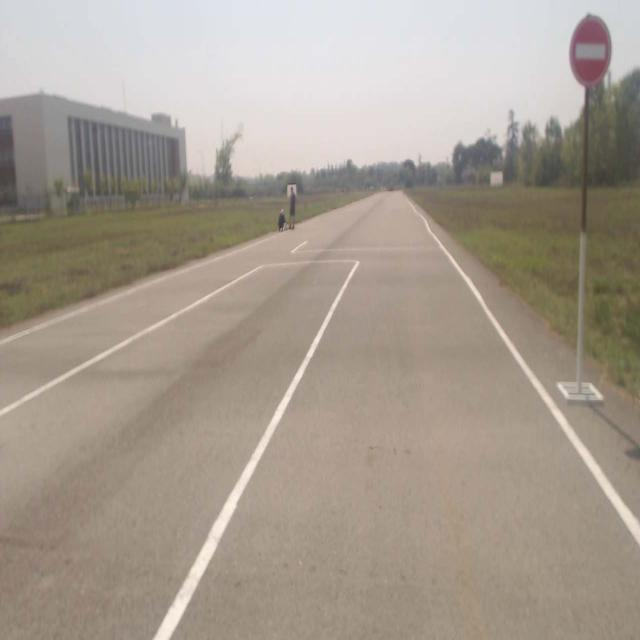girisyok: (569, 15, 611, 85)
